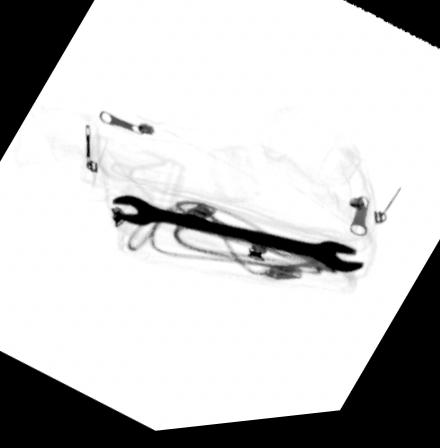Wrench: (110, 196, 366, 282)
